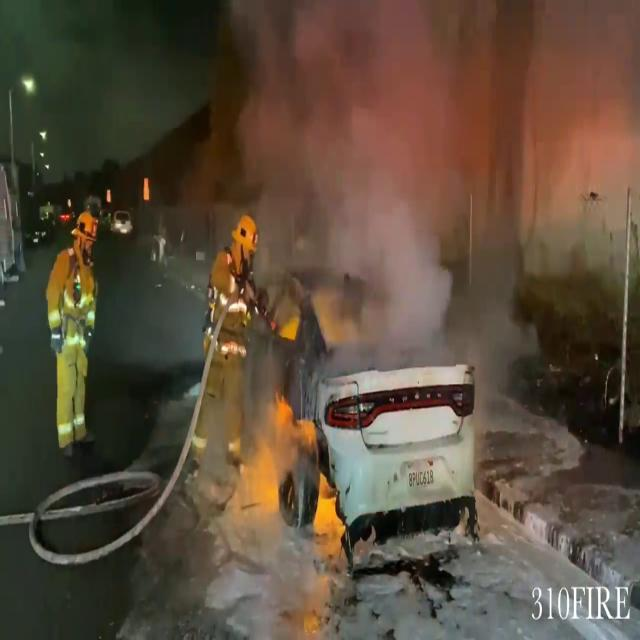Smoke: (228, 0, 501, 351)
